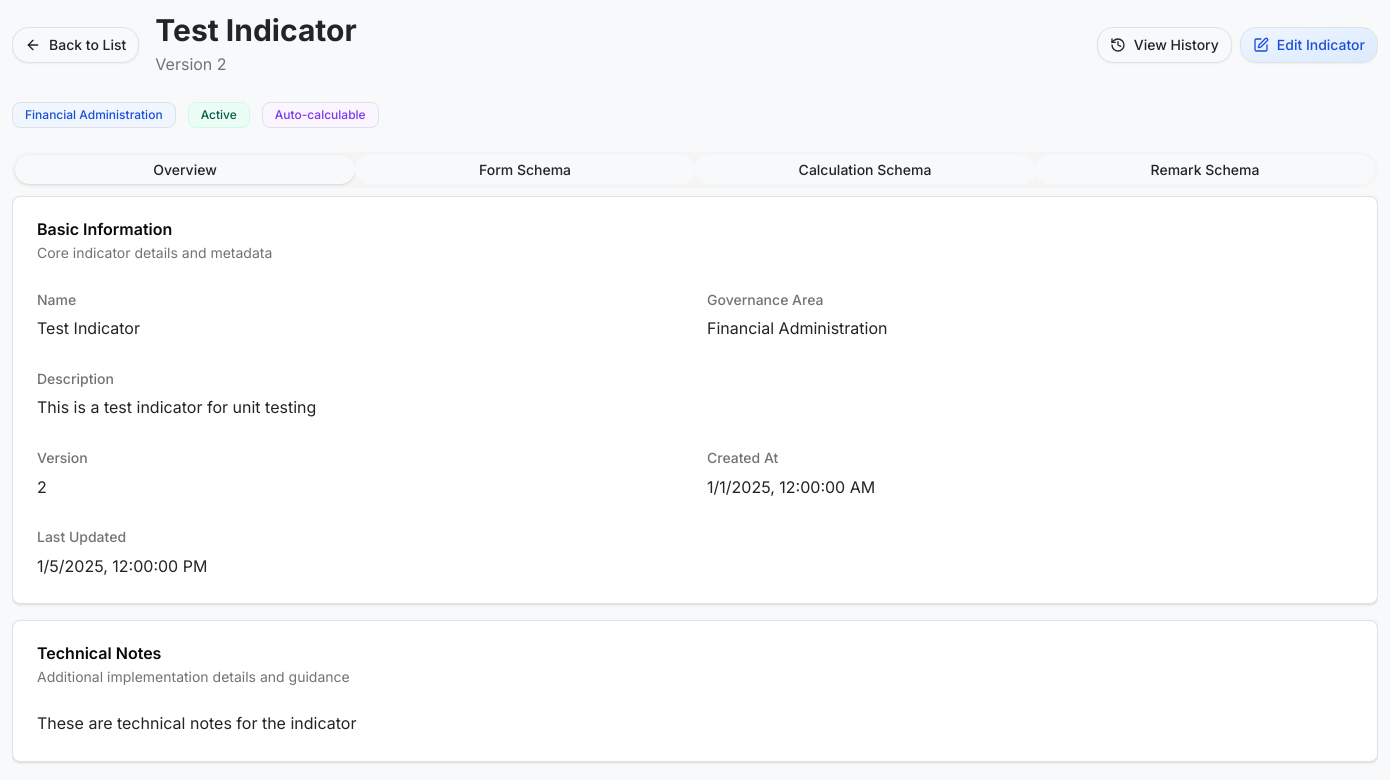
Test case: IndicatorDetail › displays form schema JSON viewer
The width and height of the screenshot is (1390, 780).
# Click on Form Schema tab
Click the tab "Form Schema" at [525, 170], box [355,155,695,184]
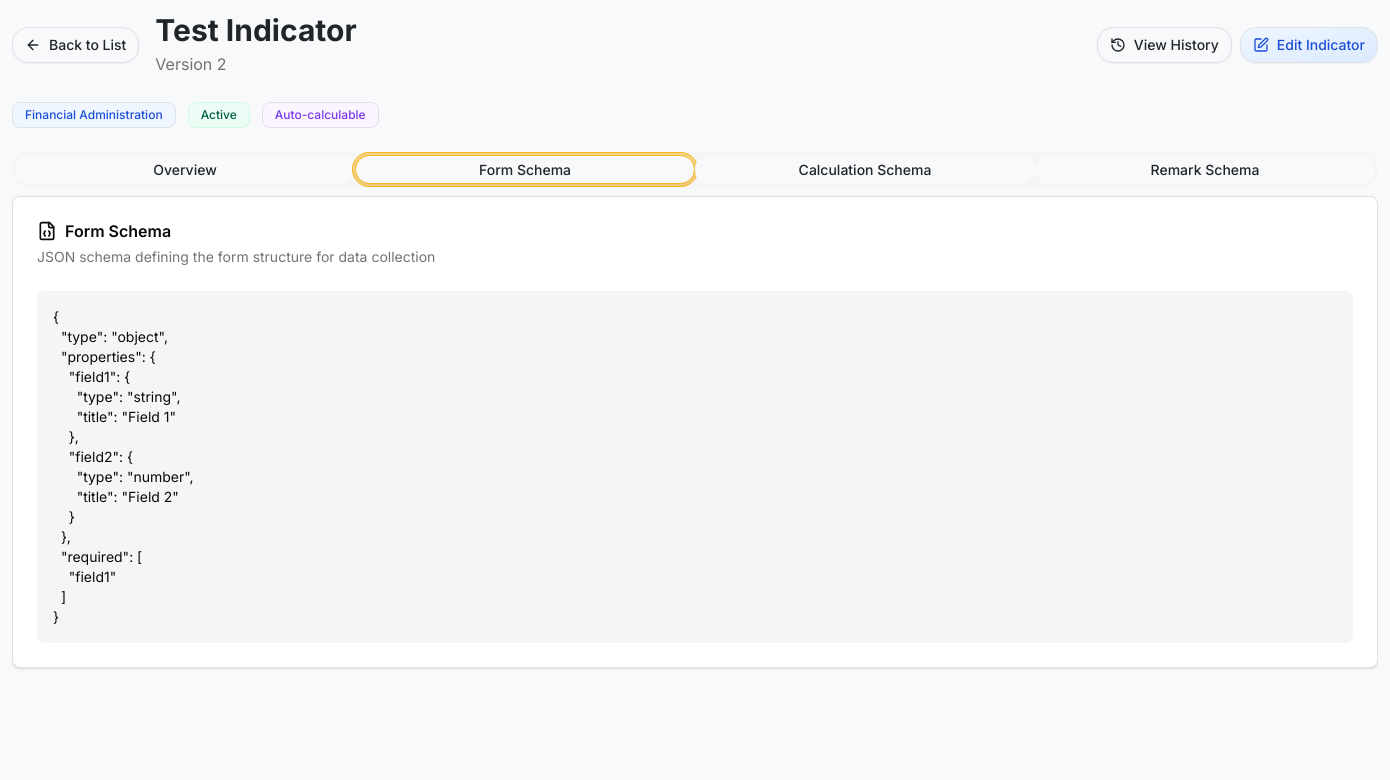
Expected: the text "\"field2\"" is shown, [53,308,194,625]
